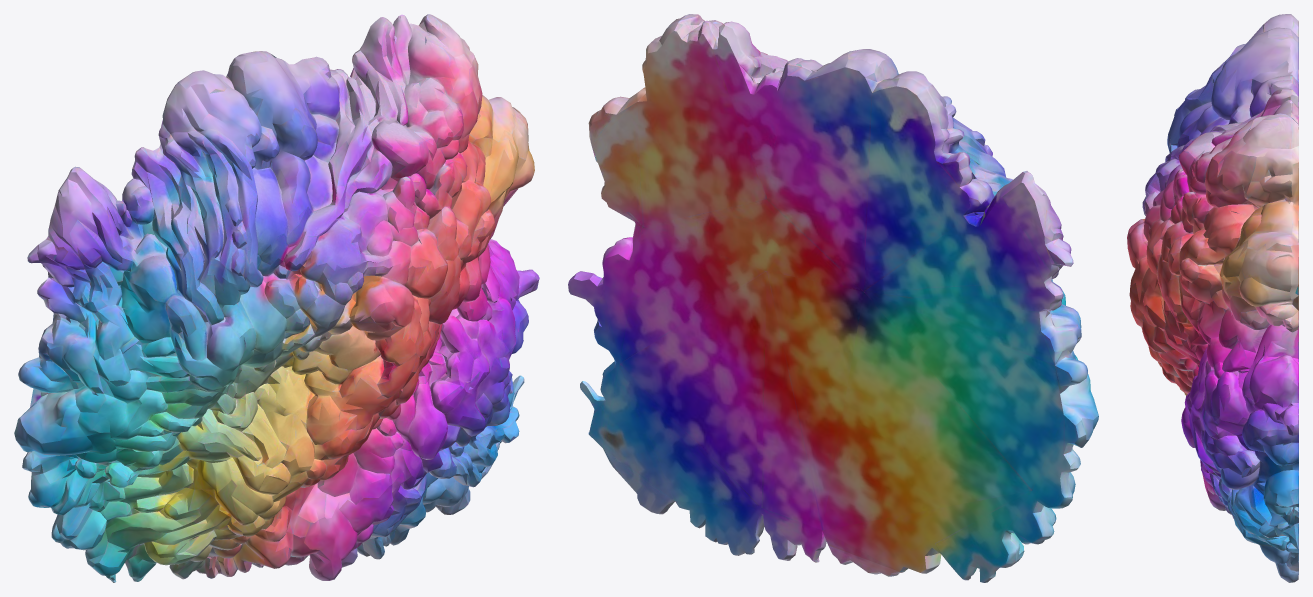
Rendered from sym-candy.glb.
3 renders of one model, left to right at view 1: azimuth 30°, elevation 25°; view 2: azimuth 150°, elevation 25°; view 3: azimuth 270°, elevation 25°, orthographic. The views are drawn at different scales.
Parts seen in each view (by area): view 1: output_unwrapped; view 2: output_unwrapped; view 3: output_unwrapped.
Part boxes in pixels (x1,y1,x2,y2): output_unwrapped: (14,14,539,582); output_unwrapped: (568,14,1098,582); output_unwrapped: (1127,14,1298,582).
Bounding box in the file's own units: 1.9 × 1.86 × 0.6006.
Materials: 1 (1 with a texture image).
